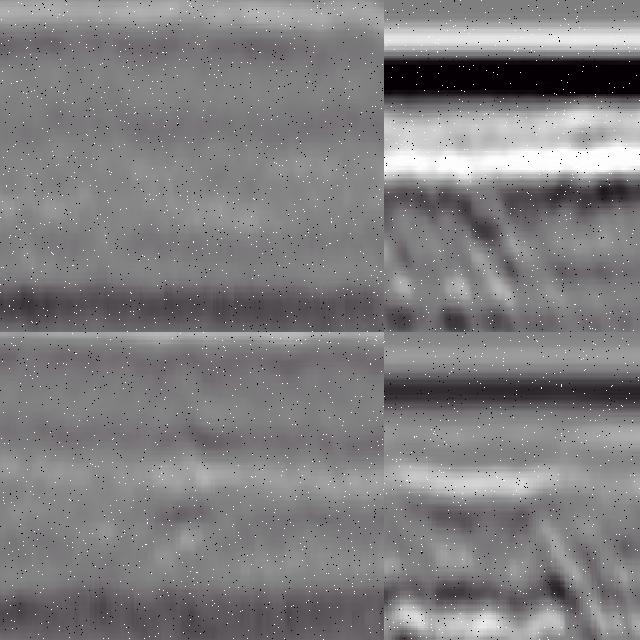loose: (385, 208, 589, 320), (385, 553, 617, 640)
